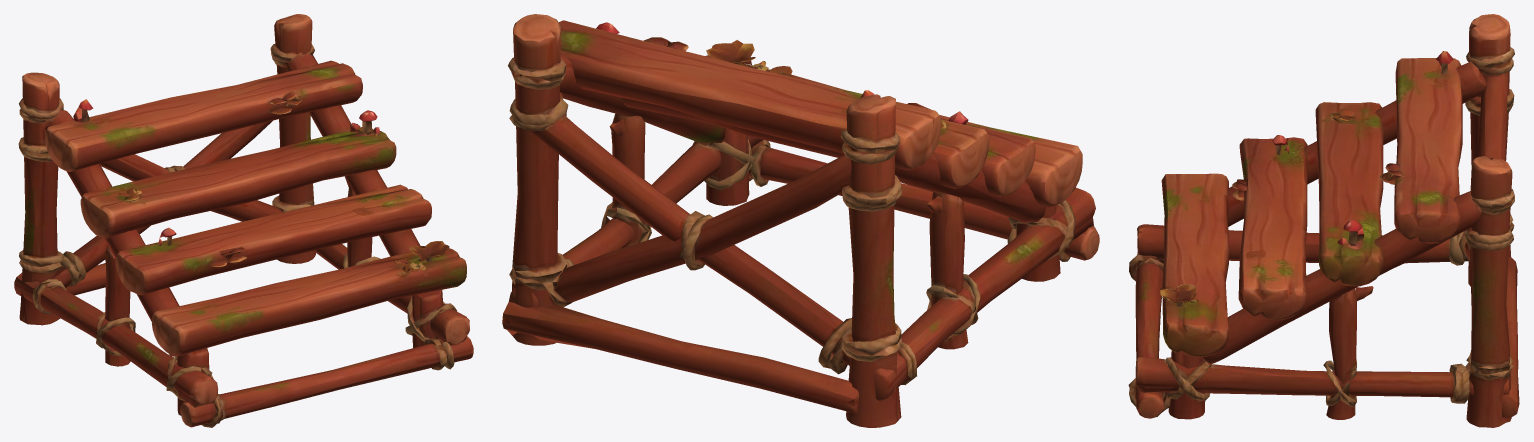
File: bosque_grada.glb
3 views of the same model, side by side, from view 1: azimuth 30°, elevation 25°; view 2: azimuth 150°, elevation 25°; view 3: azimuth 270°, elevation 25° (orthographic). The views are drawn at different scales.
Visible parts, largest first — view 1: tripo_node_89f8991a-9f52-4ecb-9e24-57b31f9ec9d4; view 2: tripo_node_89f8991a-9f52-4ecb-9e24-57b31f9ec9d4; view 3: tripo_node_89f8991a-9f52-4ecb-9e24-57b31f9ec9d4.
Boxes of the visible parts, bbox=[...] form: tripo_node_89f8991a-9f52-4ecb-9e24-57b31f9ec9d4: bbox=[14, 14, 473, 427]; tripo_node_89f8991a-9f52-4ecb-9e24-57b31f9ec9d4: bbox=[502, 14, 1099, 427]; tripo_node_89f8991a-9f52-4ecb-9e24-57b31f9ec9d4: bbox=[1128, 14, 1519, 427].
Bounding box in the file's own units: 0.9507 × 0.7257 × 0.9795.
Materials: 1 (1 with a texture image).
